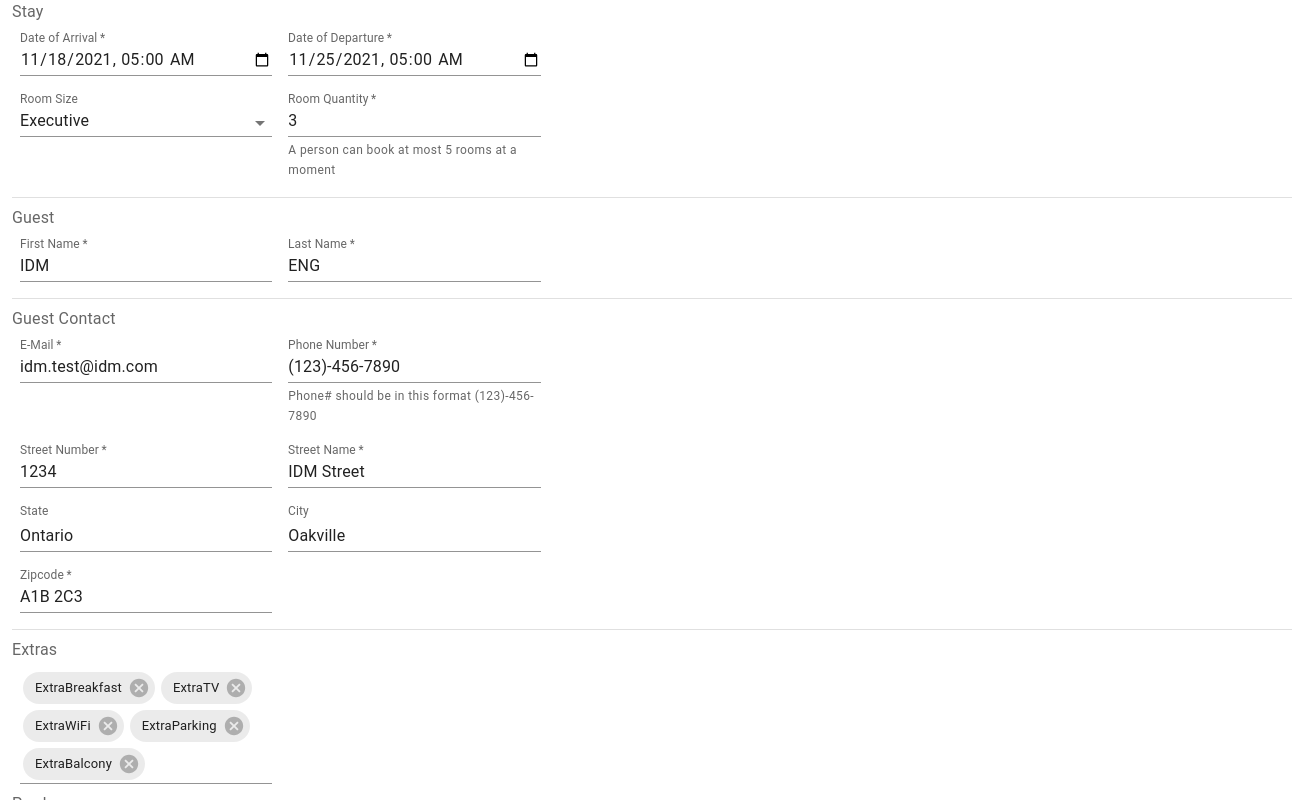
Reservation page › should display modal page fields
The width and height of the screenshot is (1292, 800).
Expected: the field with test id "arrivalDate" is shown, x1=20 y1=47 x2=272 y2=76
Expected: the field with test id "departureDate" is shown, x1=288 y1=47 x2=541 y2=76
Click the element with test id "State": (146, 536) x1=20 y1=520 x2=272 y2=552
(page scrolled)
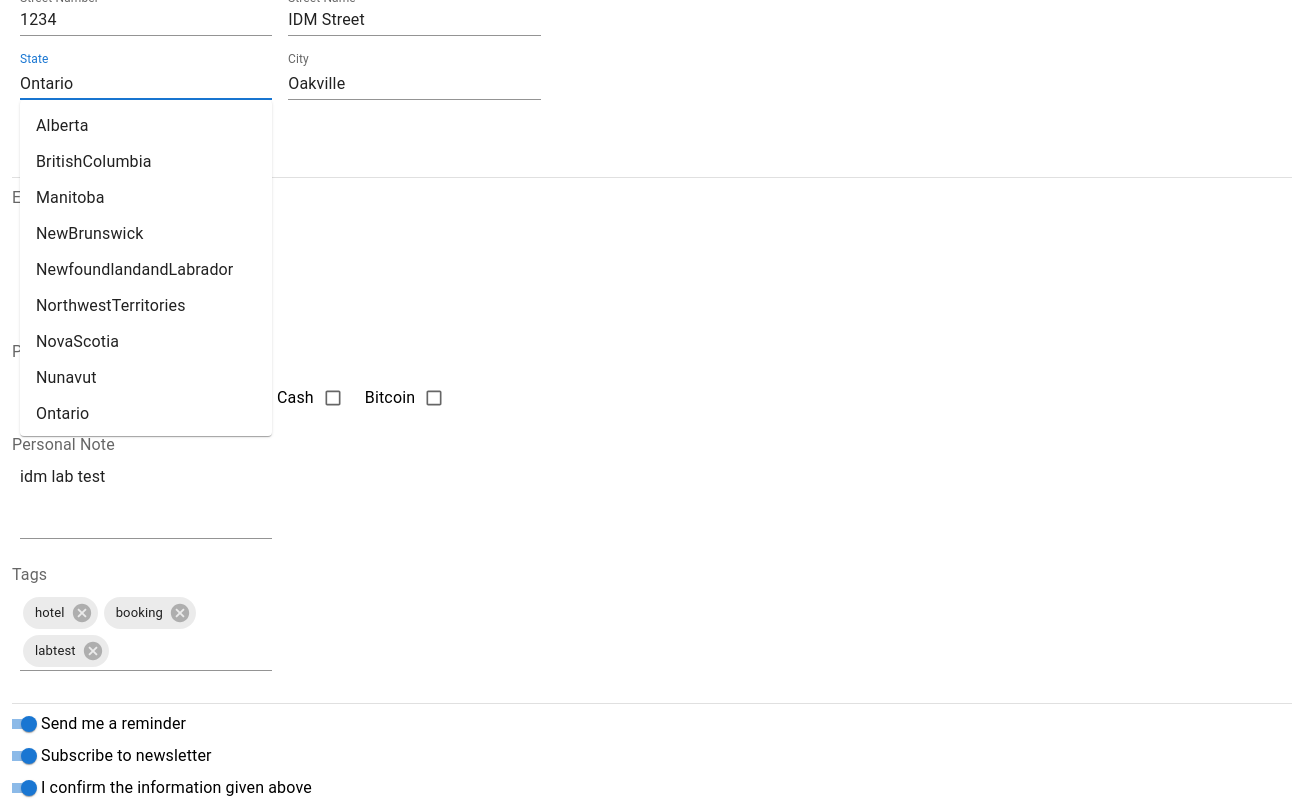
Expected: the option "Alberta" is shown, x1=36 y1=116 x2=89 y2=135
Expected: the option "BritishColumbia" is shown, x1=36 y1=152 x2=152 y2=171
Expected: the option "Manitoba" is shown, x1=36 y1=188 x2=104 y2=207
